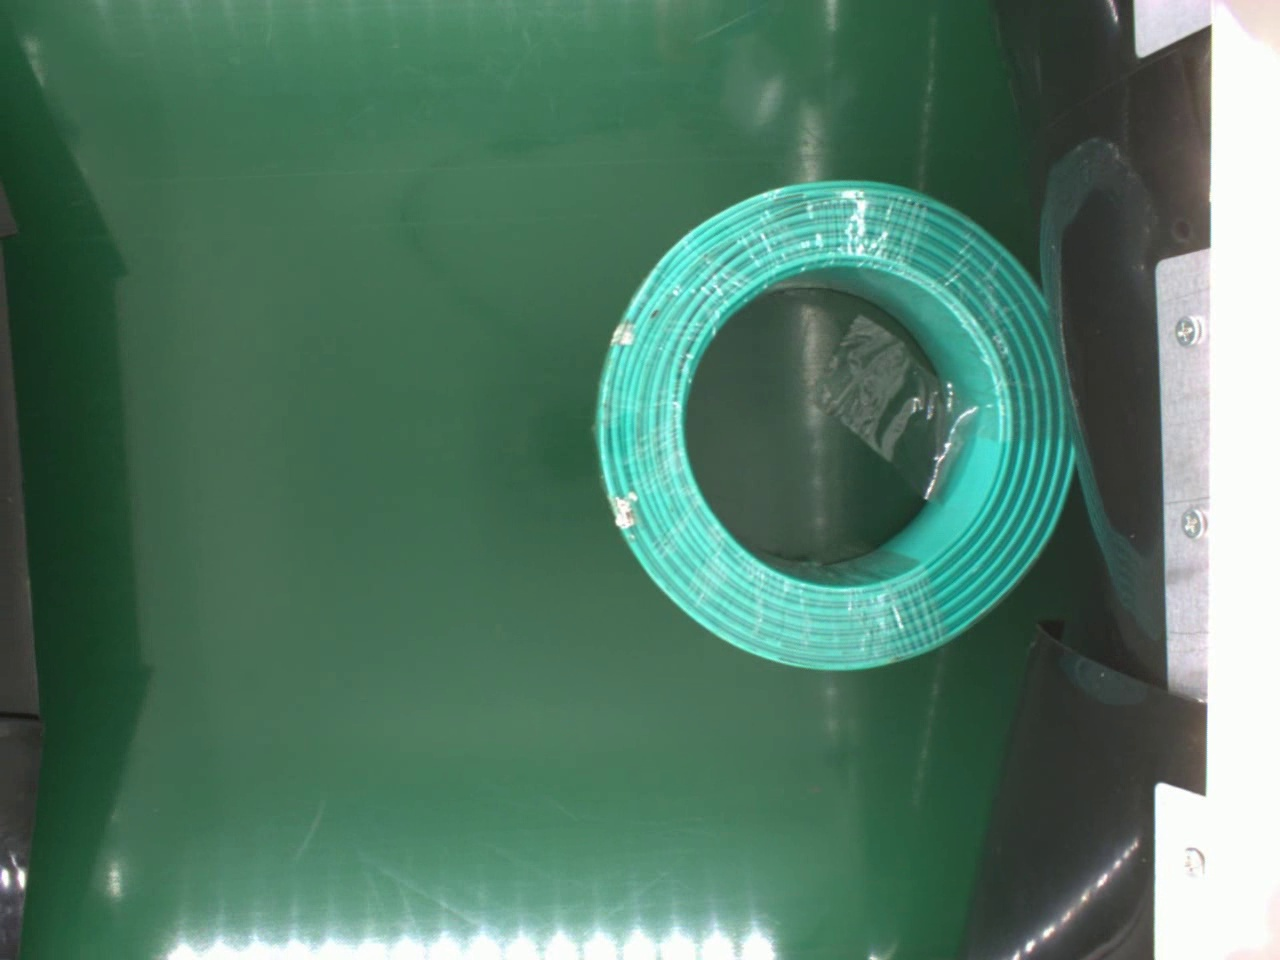green: (594, 175, 1080, 682)
